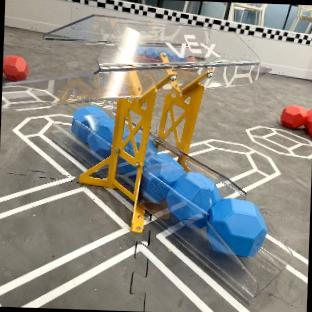V5_BLUE: (208, 198, 266, 257), (166, 172, 219, 224), (71, 106, 114, 158), (140, 154, 182, 201)
V5_RED: (280, 104, 312, 135), (3, 55, 28, 81)
